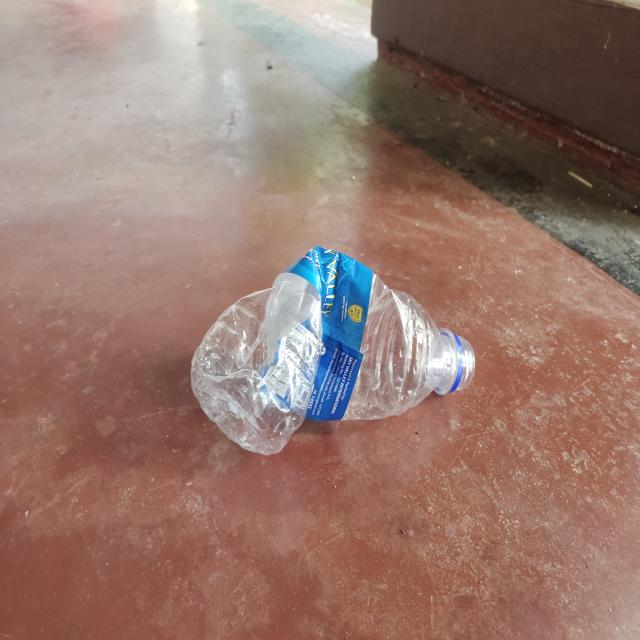plastic: (187, 245, 478, 458)
